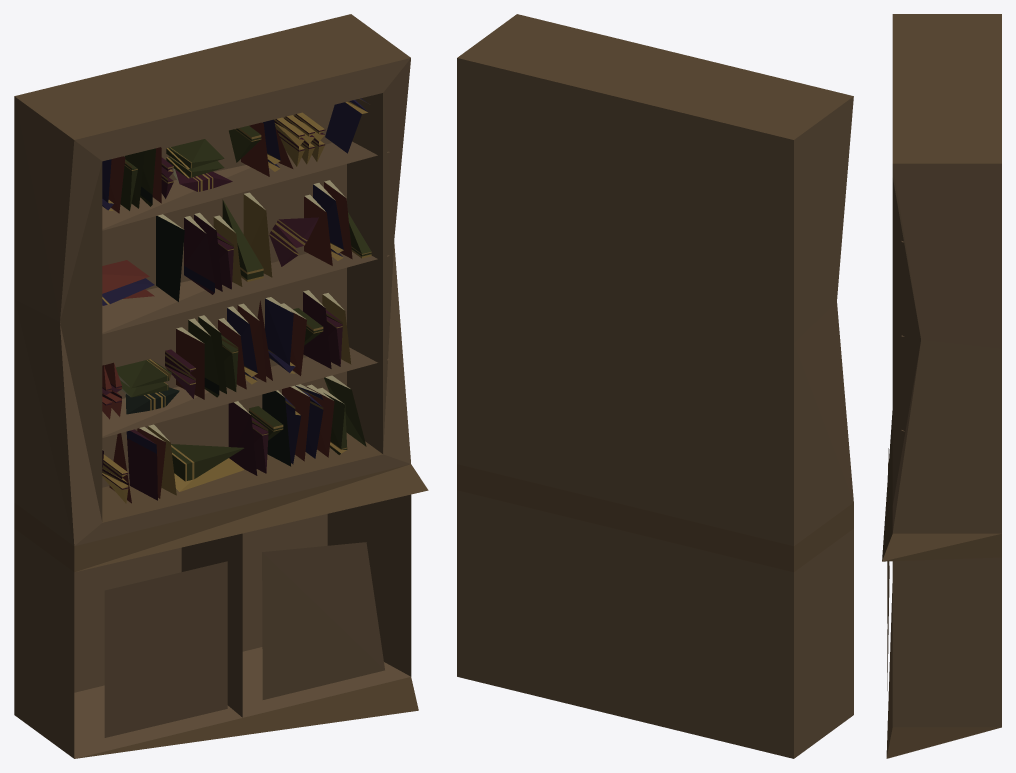
The model's file is bookcase.glb.
The picture shows the model from 3 angles, left to right: view 1: azimuth 30°, elevation 25°; view 2: azimuth 150°, elevation 25°; view 3: azimuth 270°, elevation 25°; orthographic projection. The views are drawn at different scales.
Visible parts, largest first — view 1: BookCase_Single; view 2: BookCase_Single; view 3: BookCase_Single.
Part boxes in pixels (x1=…): BookCase_Single: x1=14, y1=14, x2=428, y2=758; BookCase_Single: x1=457, y1=14, x2=853, y2=758; BookCase_Single: x1=882, y1=14, x2=1001, y2=758.
Size of the model in its own units: 1.76 by 3.15 by 0.5774.
